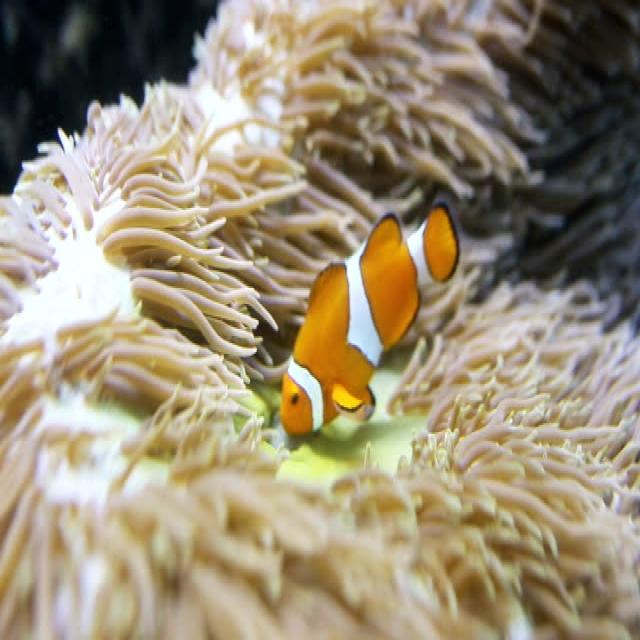ClownFish: (278, 198, 462, 436)
